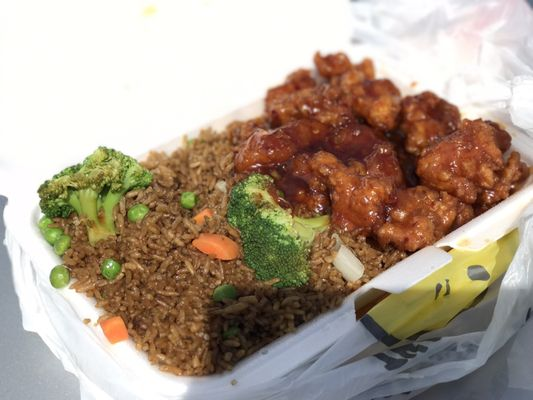curry: (37, 145, 153, 247), (226, 173, 323, 289)
